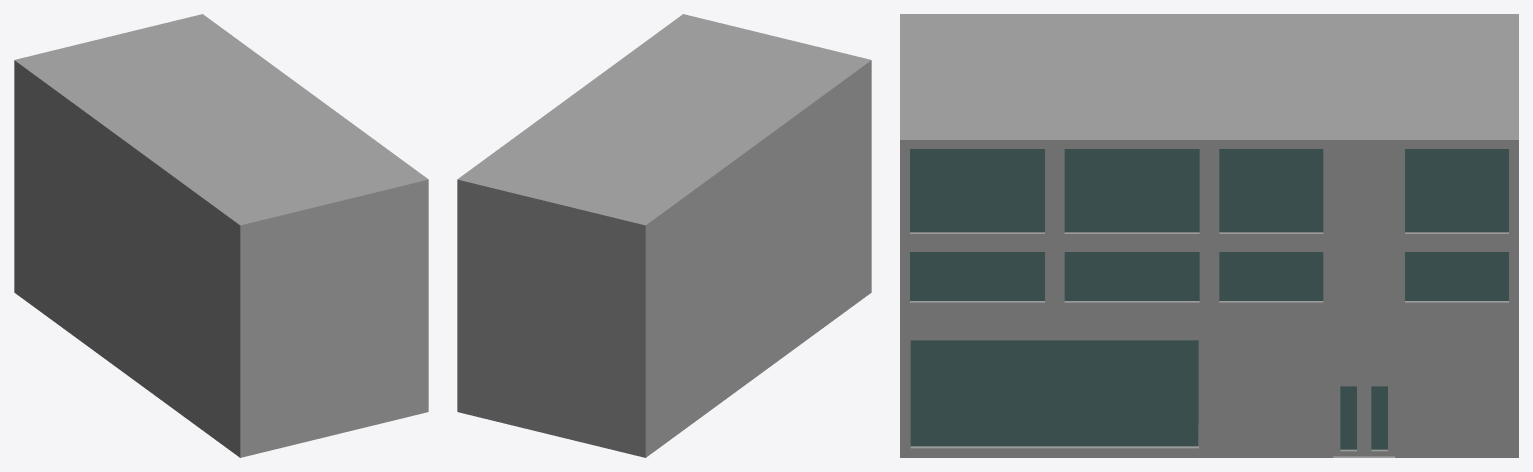
File: HouseTV.fbx
3 renders of one model, left to right at view 1: azimuth 30°, elevation 25°; view 2: azimuth 150°, elevation 25°; view 3: azimuth 270°, elevation 25°, orthographic. The views are drawn at different scales.
Parts seen in each view (by area): view 1: House; view 2: House; view 3: House, Glass.
Boxes of the visible parts, x1,y1,x2,y2 form: House: (14, 14, 428, 457); House: (457, 14, 871, 457); House: (900, 14, 1518, 457); Glass: (910, 340, 1198, 446).
Bounding box in the file's own units: 0.4191 × 0.4939 × 0.8705.
